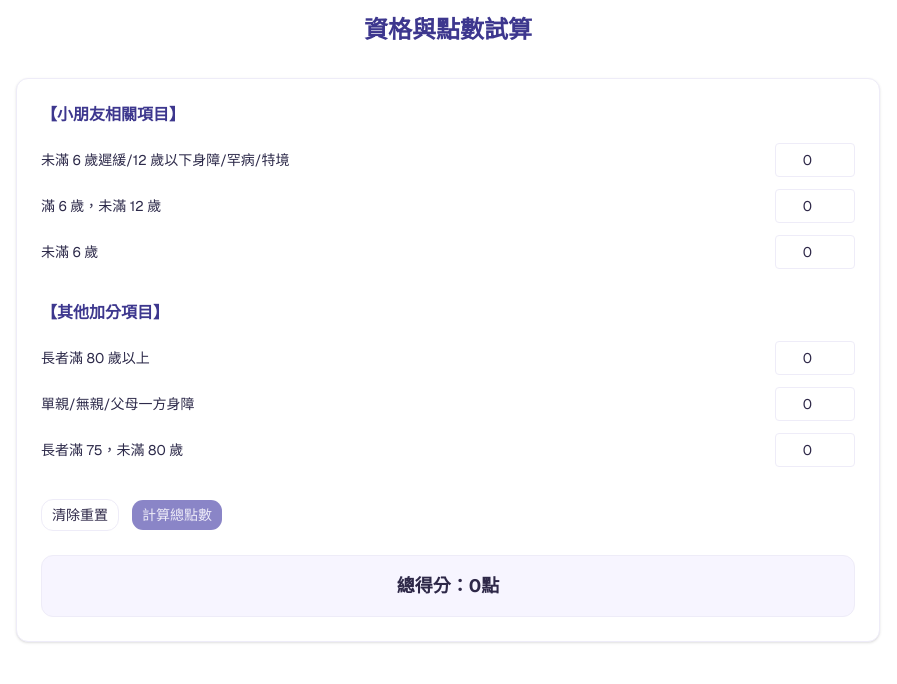
Test: EligibilityCalculator › calculates score when button clicked
The image size is (897, 684).
Replace the text in the number field labelled "未滿 6 歲遲緩/12 歲以下身障/罕病/特境" with "1" at (815, 160), box [775,143,855,177]
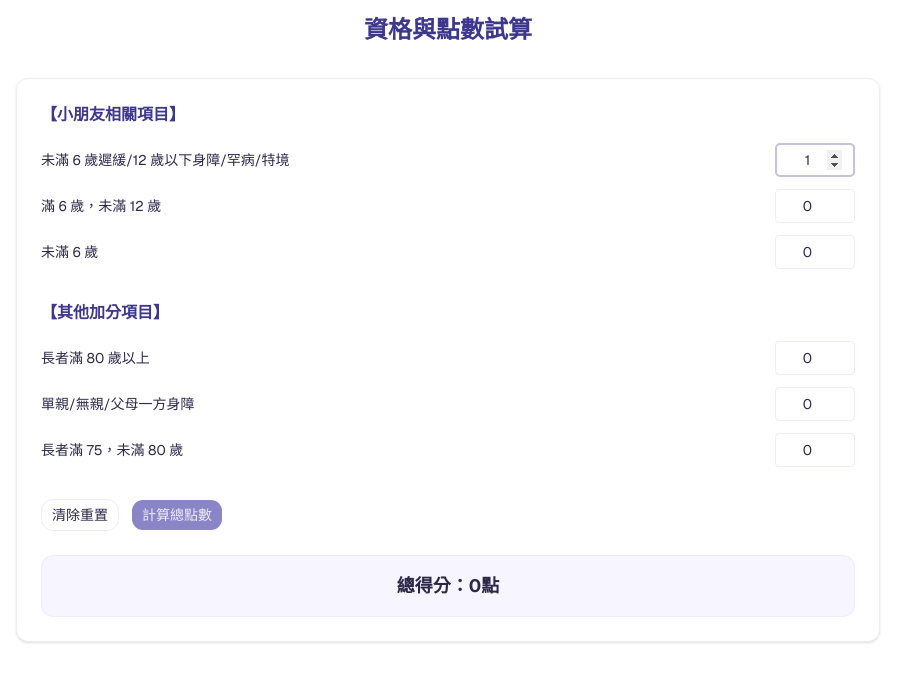
Click the button "計算總點數" at (177, 515), box [131,499,223,531]
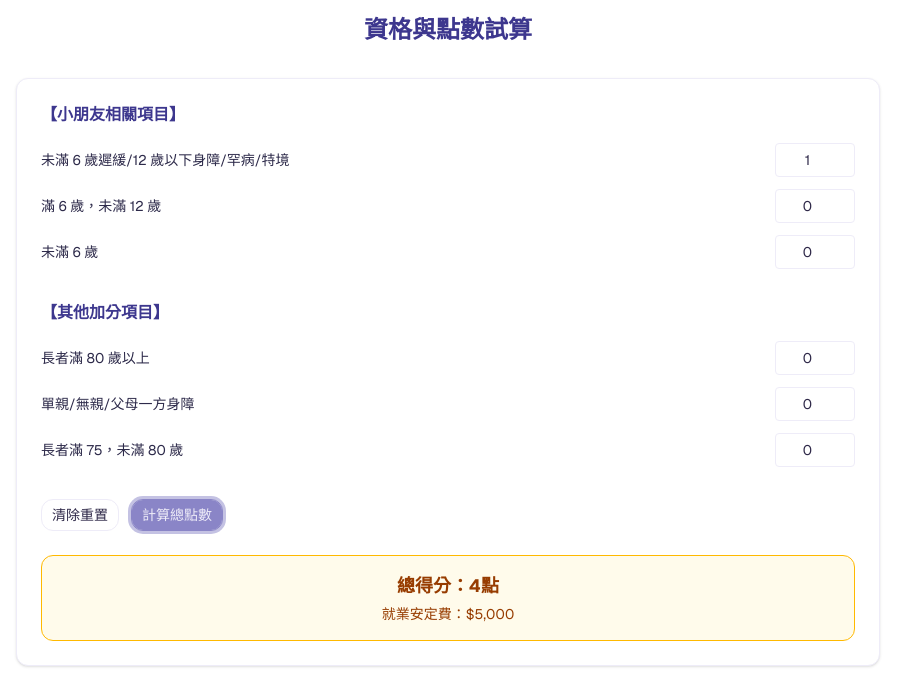
Result: the text "總得分：4點" is shown at [397,574,499,597]
Result: the text "就業安定費：$5,000" is shown at [382,605,514,623]
